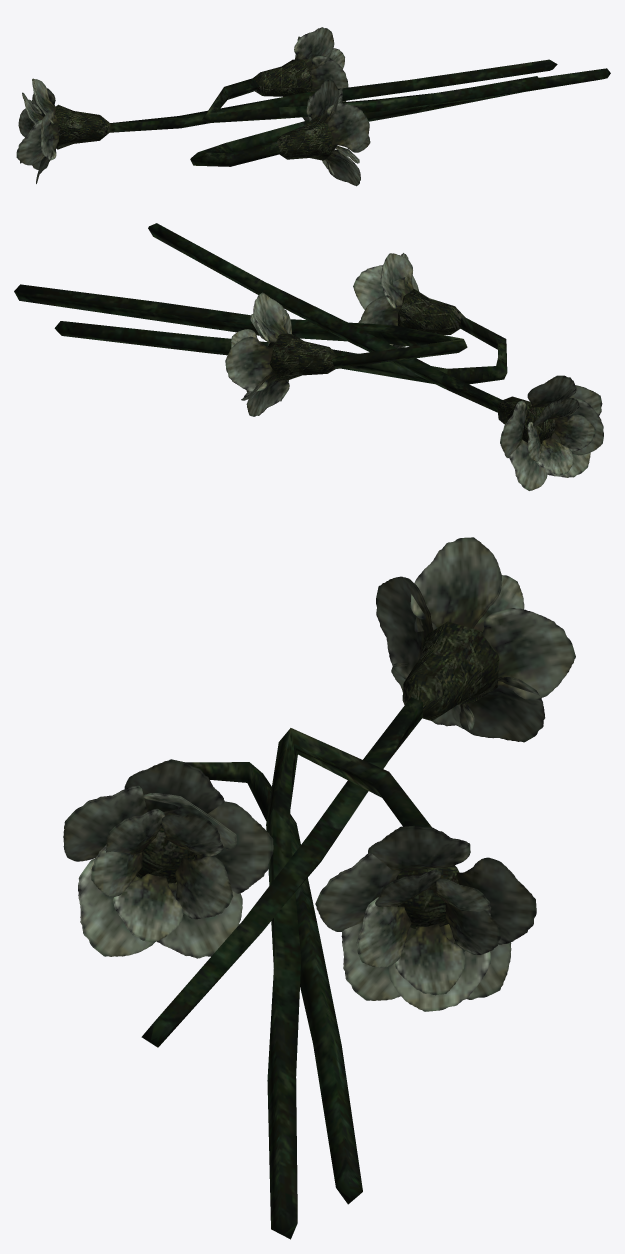
Rendered from rotten_flowers.dae.
3 views of the same model, one above another, from view 1: azimuth 30°, elevation 25°; view 2: azimuth 150°, elevation 25°; view 3: azimuth 270°, elevation 25° (orthographic). The views are drawn at different scales.
Visible parts, largest first — view 1: polySurface17, polySurface18; view 2: polySurface17, polySurface18; view 3: polySurface17, polySurface18.
Part boxes in pixels (box(x1,y1,x2,y2)): polySurface17: box(16, 27, 610, 186); polySurface18: box(55, 59, 336, 160); polySurface17: box(14, 223, 603, 490); polySurface18: box(268, 289, 555, 443); polySurface17: box(63, 537, 575, 1239); polySurface18: box(136, 621, 499, 929).
Bounding box in the file's own units: 0.898 × 0.1851 × 0.3847.
